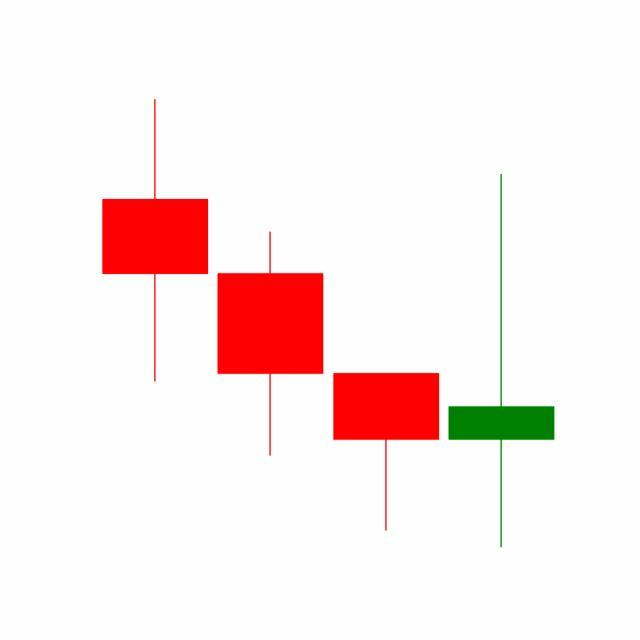Spinning Top: (444, 170, 560, 552)
